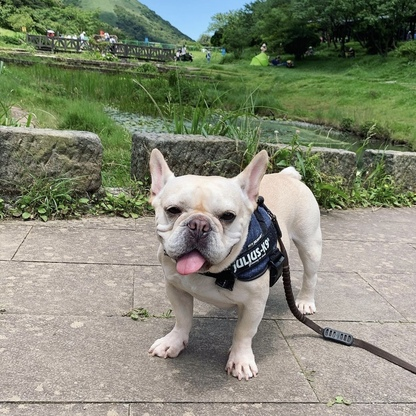bulldog: (147, 147, 325, 383)
